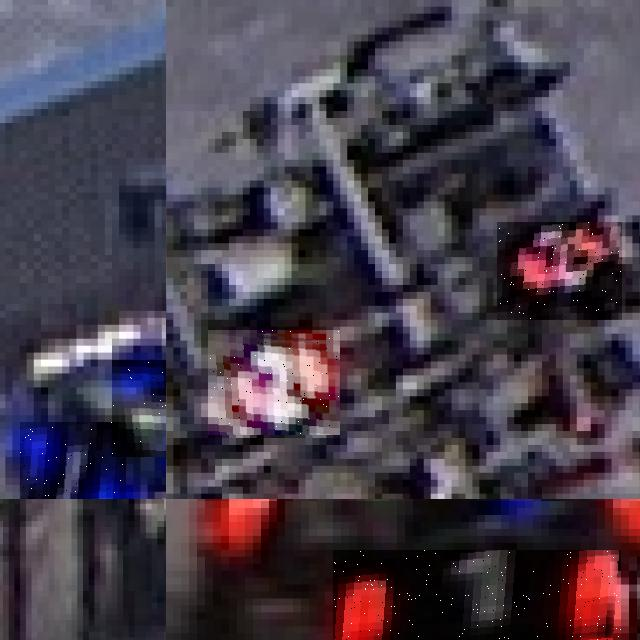B1: (19, 422, 126, 499), (112, 359, 166, 457)
R1: (333, 549, 621, 640)
R2: (208, 330, 340, 435), (497, 222, 622, 320)
